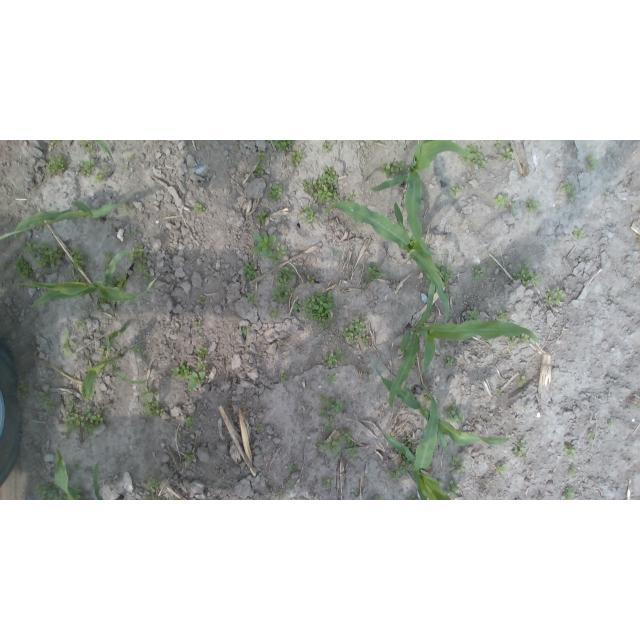Maize: (389, 283, 540, 402), (323, 201, 449, 324), (373, 365, 510, 452), (15, 252, 158, 304), (372, 141, 475, 192), (0, 200, 124, 239), (381, 433, 452, 500), (81, 336, 143, 399), (54, 447, 125, 500), (86, 140, 114, 160)
Weeds: (23, 239, 66, 271), (302, 165, 338, 203), (304, 290, 336, 328), (80, 404, 105, 439), (511, 262, 541, 289), (141, 387, 167, 418), (35, 477, 66, 500), (251, 231, 277, 258), (343, 319, 369, 346), (460, 144, 486, 169), (425, 262, 453, 284), (63, 398, 81, 431), (389, 454, 412, 479), (10, 256, 32, 279), (319, 395, 344, 415), (70, 246, 90, 271), (46, 154, 69, 175), (128, 244, 150, 265), (275, 266, 298, 286), (380, 159, 404, 178), (545, 287, 568, 306), (443, 403, 464, 423), (170, 360, 191, 380), (241, 260, 261, 280), (365, 264, 385, 284), (135, 262, 153, 284), (272, 287, 295, 304), (61, 331, 76, 357), (188, 370, 207, 390), (39, 389, 54, 414), (401, 435, 417, 457), (264, 183, 282, 202), (447, 456, 465, 475), (324, 350, 344, 367), (142, 475, 160, 493), (272, 241, 287, 262), (16, 380, 30, 402), (560, 181, 577, 199), (80, 158, 96, 177), (584, 152, 600, 171), (112, 275, 129, 292), (511, 439, 527, 457), (67, 484, 85, 500), (271, 141, 293, 154), (291, 147, 306, 166), (302, 203, 316, 223), (496, 147, 513, 162), (339, 428, 354, 445), (184, 413, 201, 428), (494, 194, 509, 210), (257, 210, 272, 225), (525, 199, 540, 214), (471, 266, 485, 282), (194, 344, 210, 358), (331, 435, 341, 457), (345, 442, 360, 456), (517, 331, 532, 345), (447, 478, 460, 494), (463, 310, 481, 321), (292, 298, 305, 312), (565, 444, 578, 458), (98, 295, 116, 305), (141, 492, 163, 500), (246, 292, 259, 305), (423, 391, 436, 404), (444, 356, 457, 369), (449, 184, 462, 197), (184, 452, 197, 465), (564, 486, 576, 500), (194, 202, 207, 214), (132, 343, 145, 355), (253, 164, 266, 176), (574, 227, 585, 241), (496, 308, 508, 320), (325, 420, 336, 433), (495, 462, 506, 475), (506, 335, 517, 348), (100, 344, 115, 353), (268, 308, 279, 320), (317, 442, 329, 453), (104, 251, 113, 265), (74, 274, 89, 282), (288, 464, 301, 473), (255, 151, 266, 161), (322, 141, 332, 152), (324, 476, 336, 485), (519, 375, 527, 388), (125, 204, 136, 213), (198, 293, 206, 305), (72, 460, 80, 472), (197, 362, 207, 371), (76, 319, 85, 329), (48, 140, 62, 146), (328, 375, 337, 384), (88, 146, 97, 155), (347, 191, 355, 201), (569, 467, 577, 477), (587, 431, 595, 441), (130, 227, 138, 237), (372, 494, 385, 500), (493, 140, 501, 149), (308, 276, 316, 285), (242, 325, 248, 337), (95, 174, 105, 181), (510, 203, 517, 213), (281, 372, 287, 383), (608, 421, 617, 427), (257, 424, 263, 433), (194, 320, 200, 328), (395, 448, 401, 455), (409, 495, 417, 500), (125, 162, 130, 170), (79, 141, 87, 146), (351, 494, 357, 499)
